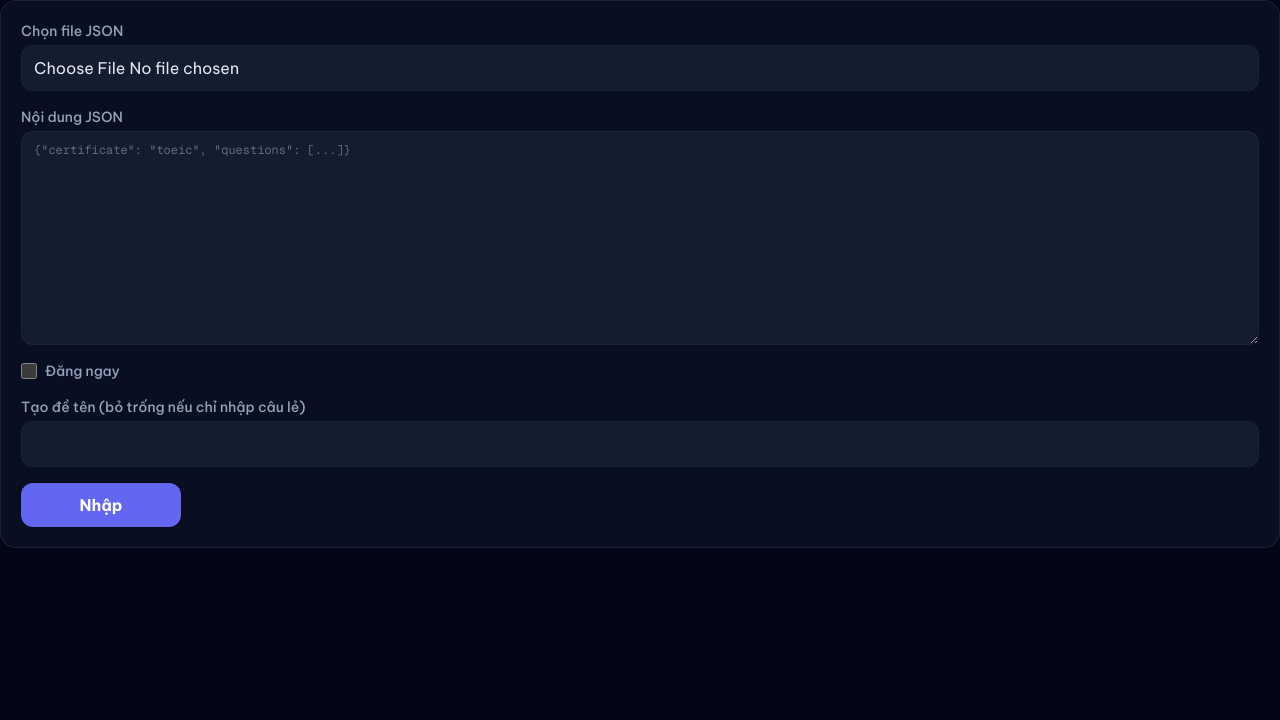
Test case: ImportForm › liệt kê từng lỗi trả về từ action
What coordinates should you click on to do the following:
click the button "Nhập"
I would click on:
 (101, 505)
Its box is [21, 483, 181, 527].
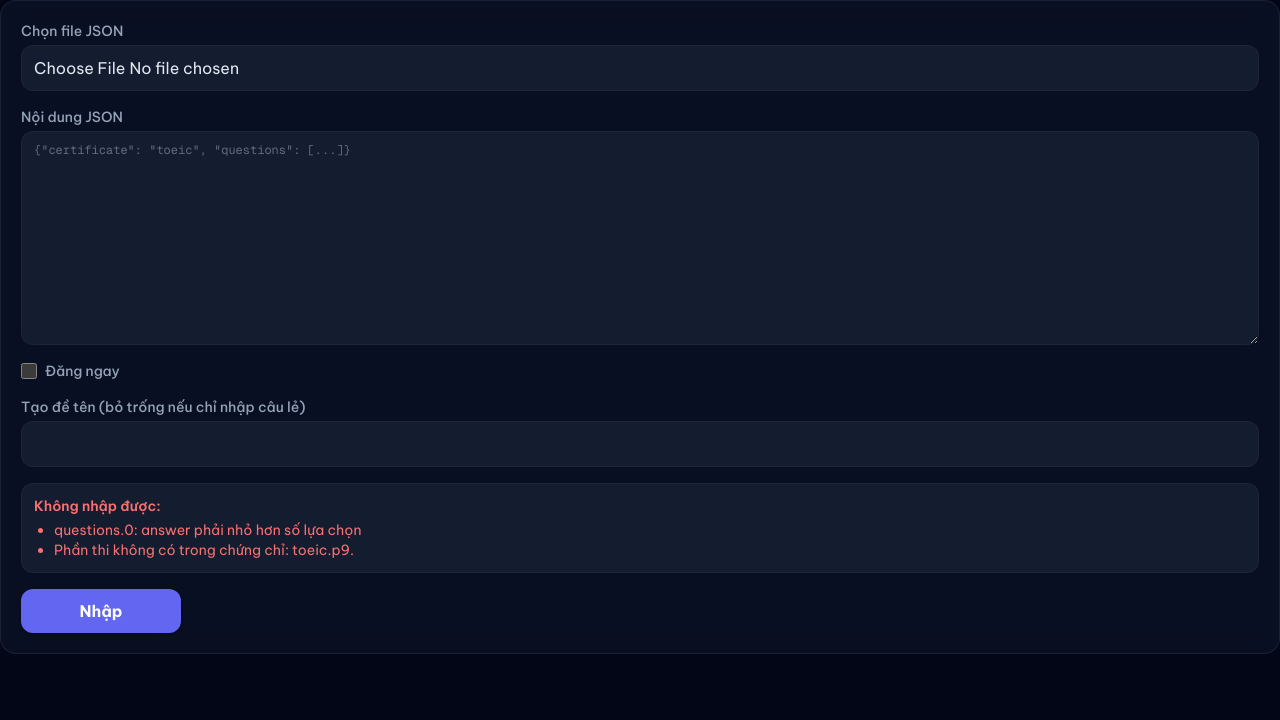
Check: the list item "questions.0: answer phải nhỏ hơn số lựa chọn" is shown, box [54, 521, 361, 539]
Check: the list item "Phần thi không có trong chứng chỉ: toeic.p9." is shown, box [54, 541, 354, 559]
